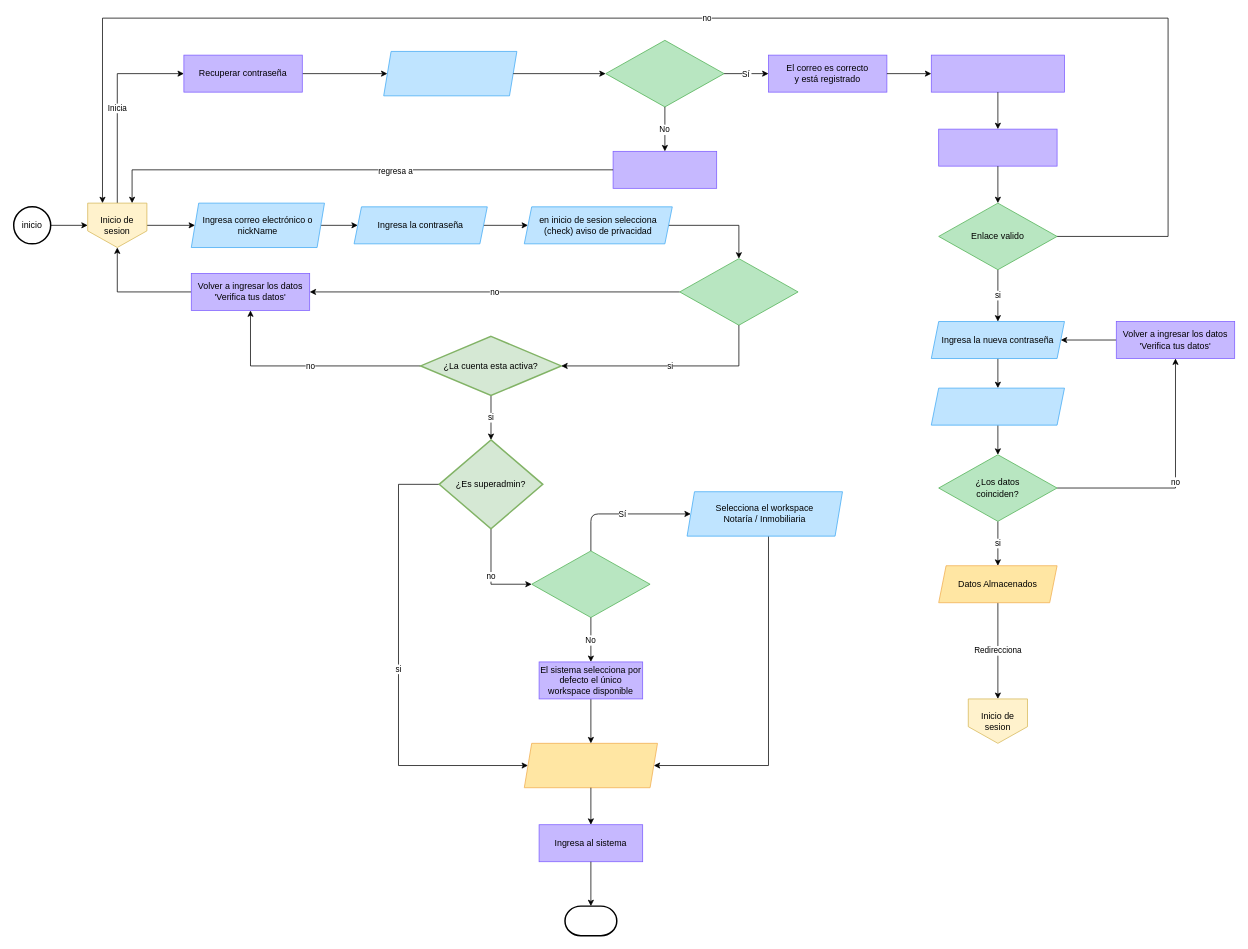
Image size: 1248x949. Some labels were removed from this diagram. The centre of each missing label's shape, as x and y in pixels:
Abrir enlace para cambiar contraseña: point (997, 147)
Confirma la nueva contraseña: point (997, 406)
Emite JWT con rol seleccionado: point (590, 765)
Envío de enlace de recuperación al correo electrónico: point (997, 73)
Fin: point (590, 920)
Ingresa el correo electrónico/nickName para recuperar contraseña: point (450, 73)
mensaje generico de revisar tu correo: point (664, 169)
¿El correo está registrado?: point (664, 73)
¿Los datos son correctos?: point (738, 291)
¿Tiene múltiples workspaces?: point (590, 584)
